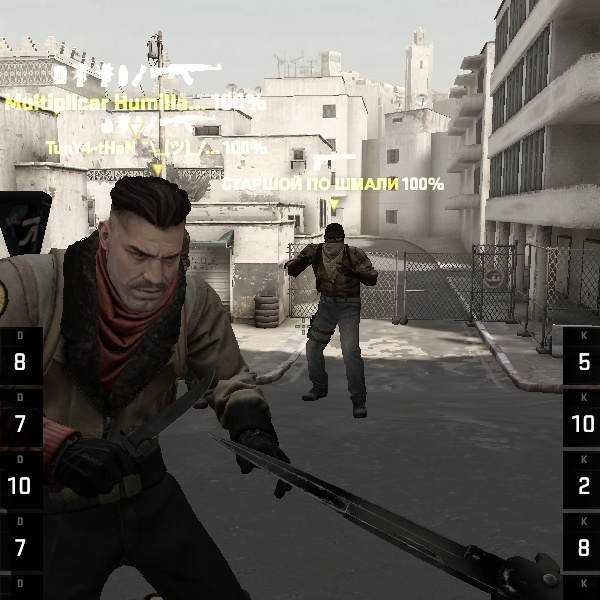t_body: (14, 176, 261, 585), (281, 218, 385, 419)
t_head: (83, 168, 219, 313), (314, 218, 354, 257)
